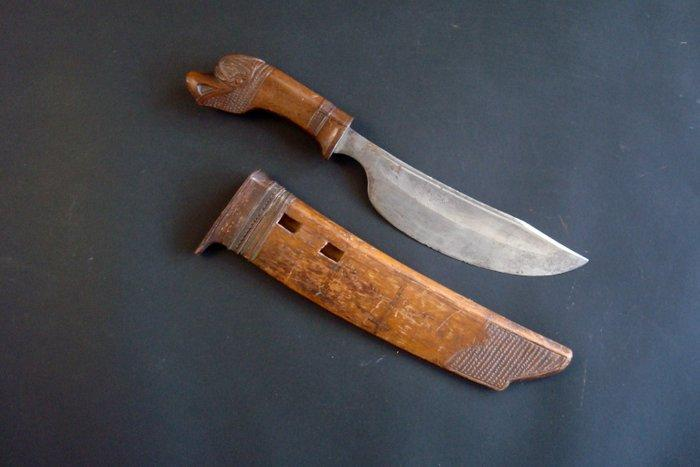facao: (178, 38, 640, 297)
